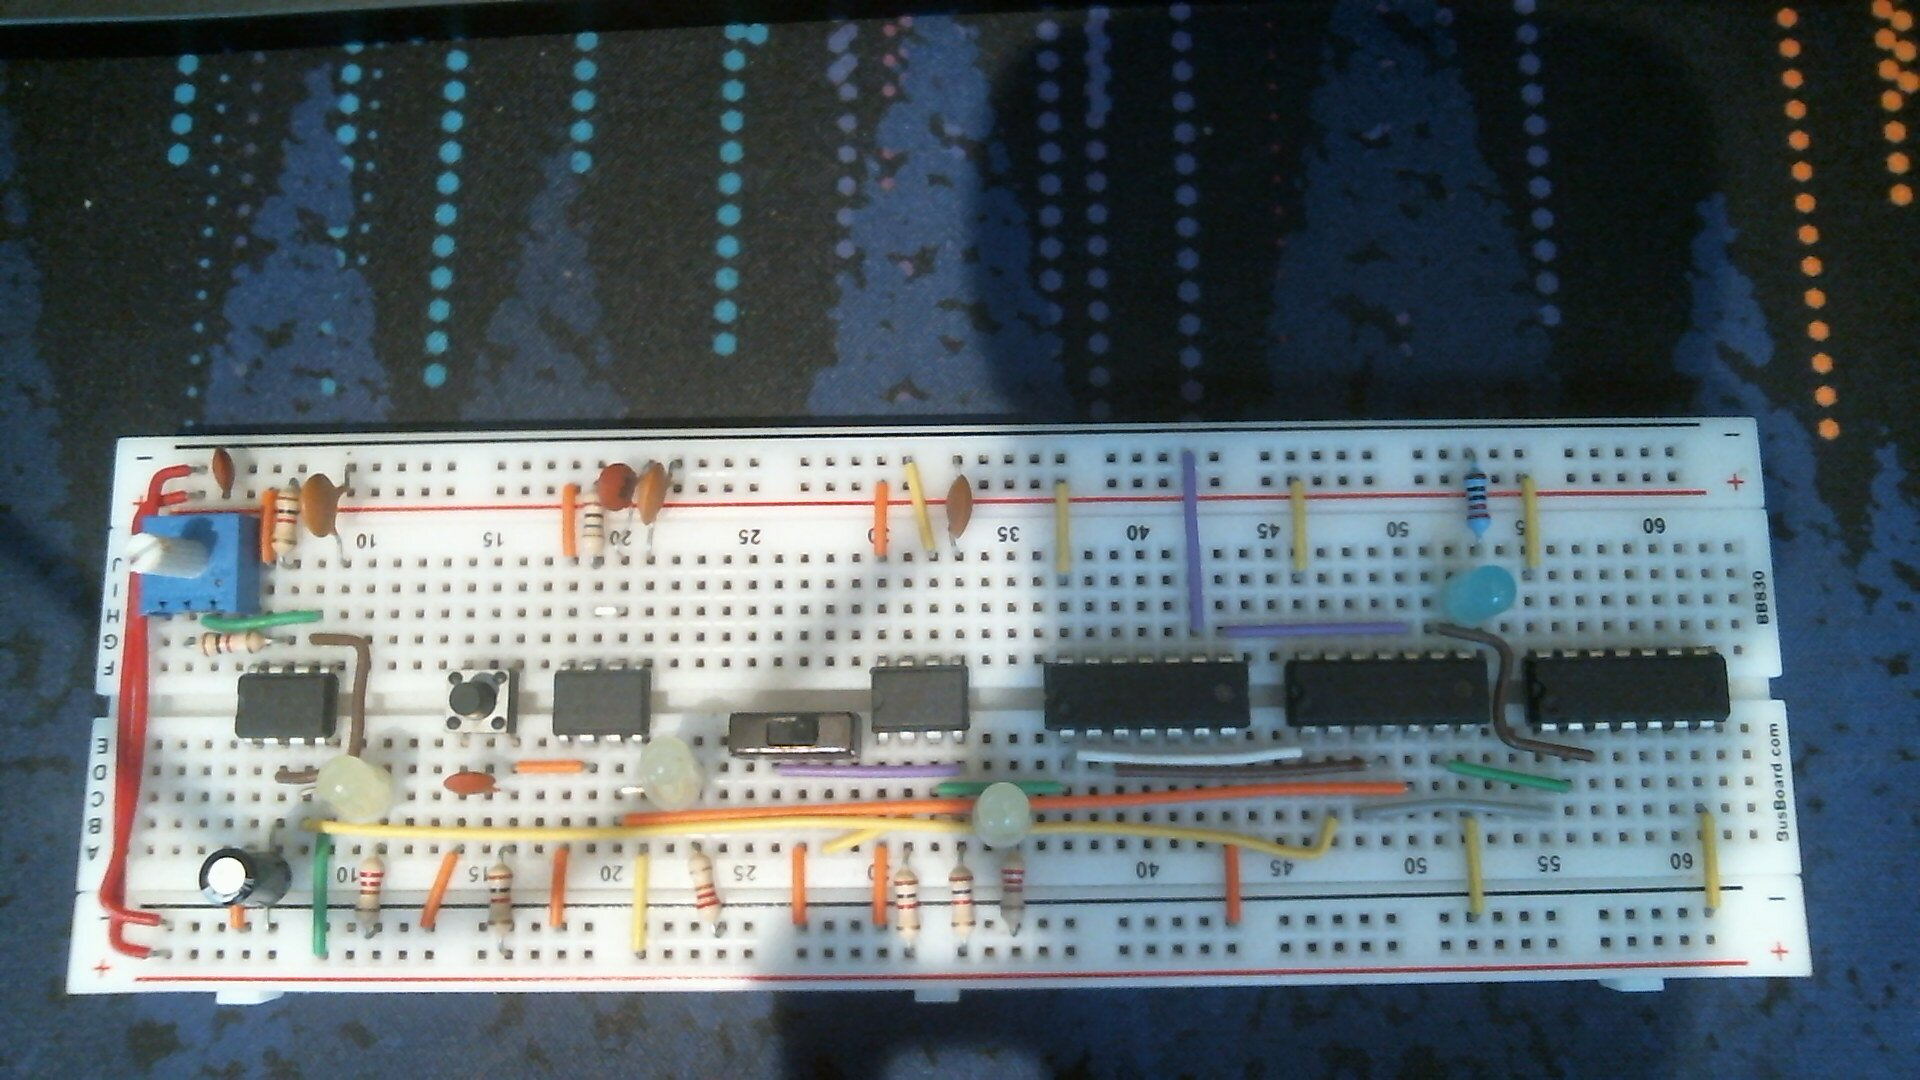IC: (1520, 646, 1733, 737), (1282, 647, 1493, 737), (1040, 655, 1253, 742), (232, 661, 342, 752), (551, 659, 654, 745), (869, 657, 972, 742)
LED: (315, 753, 397, 825), (1437, 562, 1520, 629), (636, 735, 703, 814), (968, 778, 1036, 853)
ceramic_capacitor: (301, 471, 349, 547), (636, 460, 670, 529), (942, 472, 975, 543), (596, 462, 636, 512), (206, 446, 239, 498)
electrolytic_capacitor: (196, 845, 295, 911)
resistor: (684, 847, 727, 931), (483, 855, 520, 947), (945, 855, 980, 949), (352, 851, 386, 938), (1460, 463, 1495, 546), (891, 862, 924, 952), (269, 479, 302, 566), (996, 851, 1029, 936), (193, 628, 274, 659), (578, 487, 609, 560)
